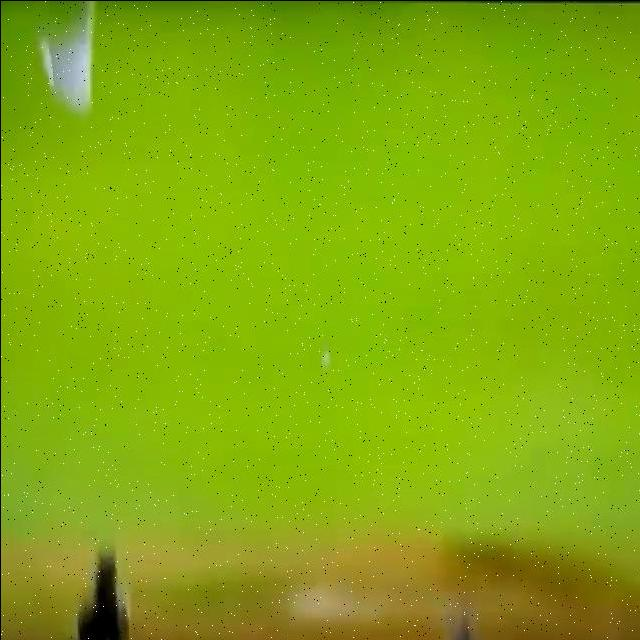golf ball: (320, 348, 330, 367)
